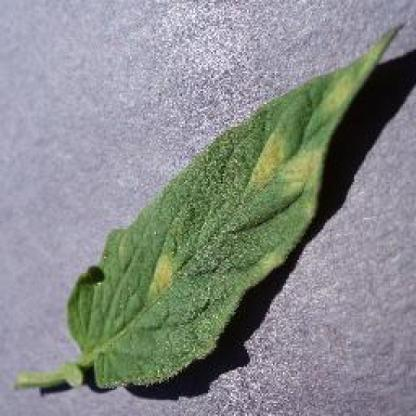Strawberry_Anthracnose_Fruit_Rot: (273, 147, 323, 197), (246, 132, 288, 190), (142, 252, 183, 290)
